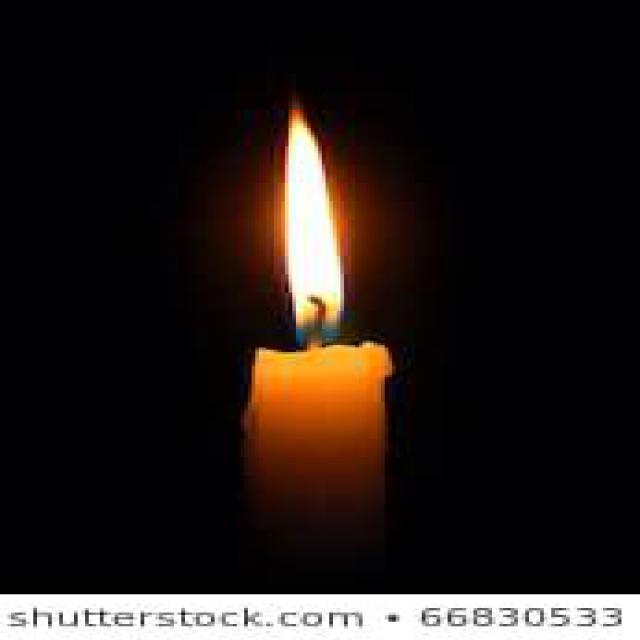Fire: (286, 107, 342, 343)
